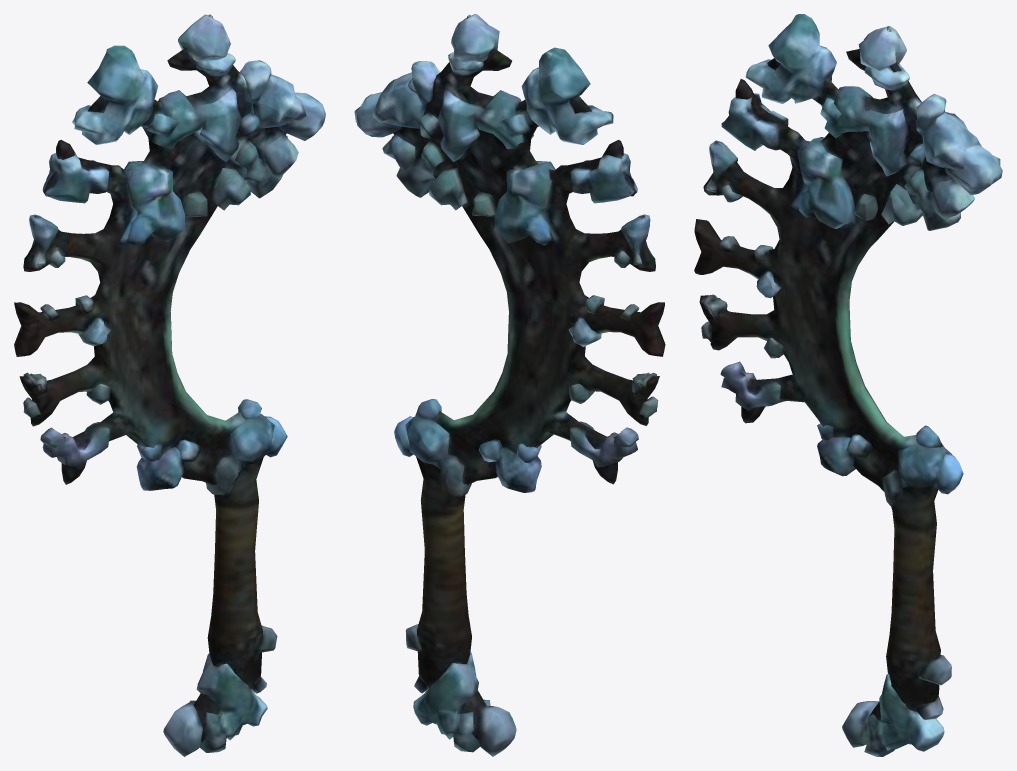
The model's file is weapon-hoar-frost-sickle.glb.
3 renders of one model, left to right at view 1: azimuth 30°, elevation 25°; view 2: azimuth 150°, elevation 25°; view 3: azimuth 330°, elevation 25°, orthographic.
Visible parts, largest first — view 1: wandN_MDL_q; view 2: wandN_MDL_q; view 3: wandN_MDL_q.
Boxes of the visible parts, x1=… form: wandN_MDL_q: x1=14, y1=14, x2=325, y2=756; wandN_MDL_q: x1=354, y1=14, x2=665, y2=756; wandN_MDL_q: x1=694, y1=14, x2=1002, y2=756.
Size of the model in its own units: 0.5056 by 1.15 by 0.0792.
1 material, 1 textured.
